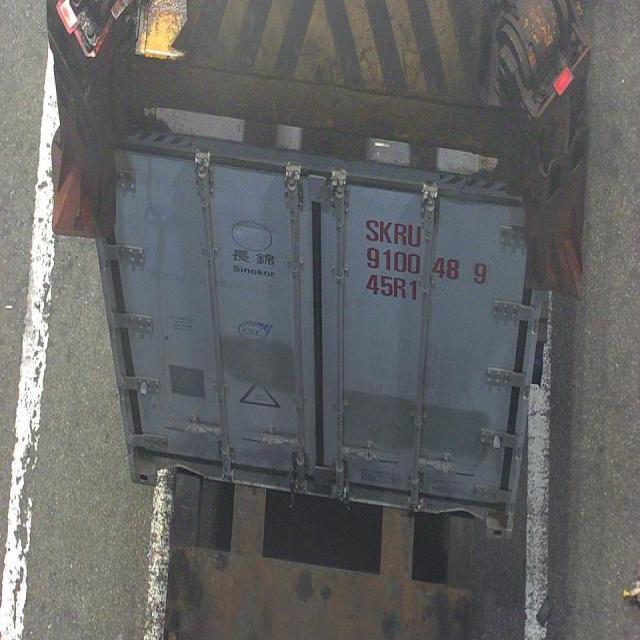ISO: (366, 274, 418, 302)
container_number: (364, 216, 492, 286)
